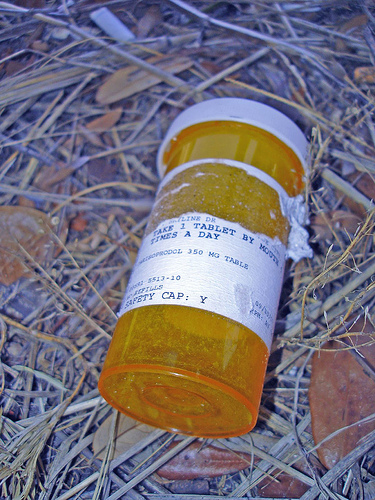pill bottle: (97, 94, 314, 441)
